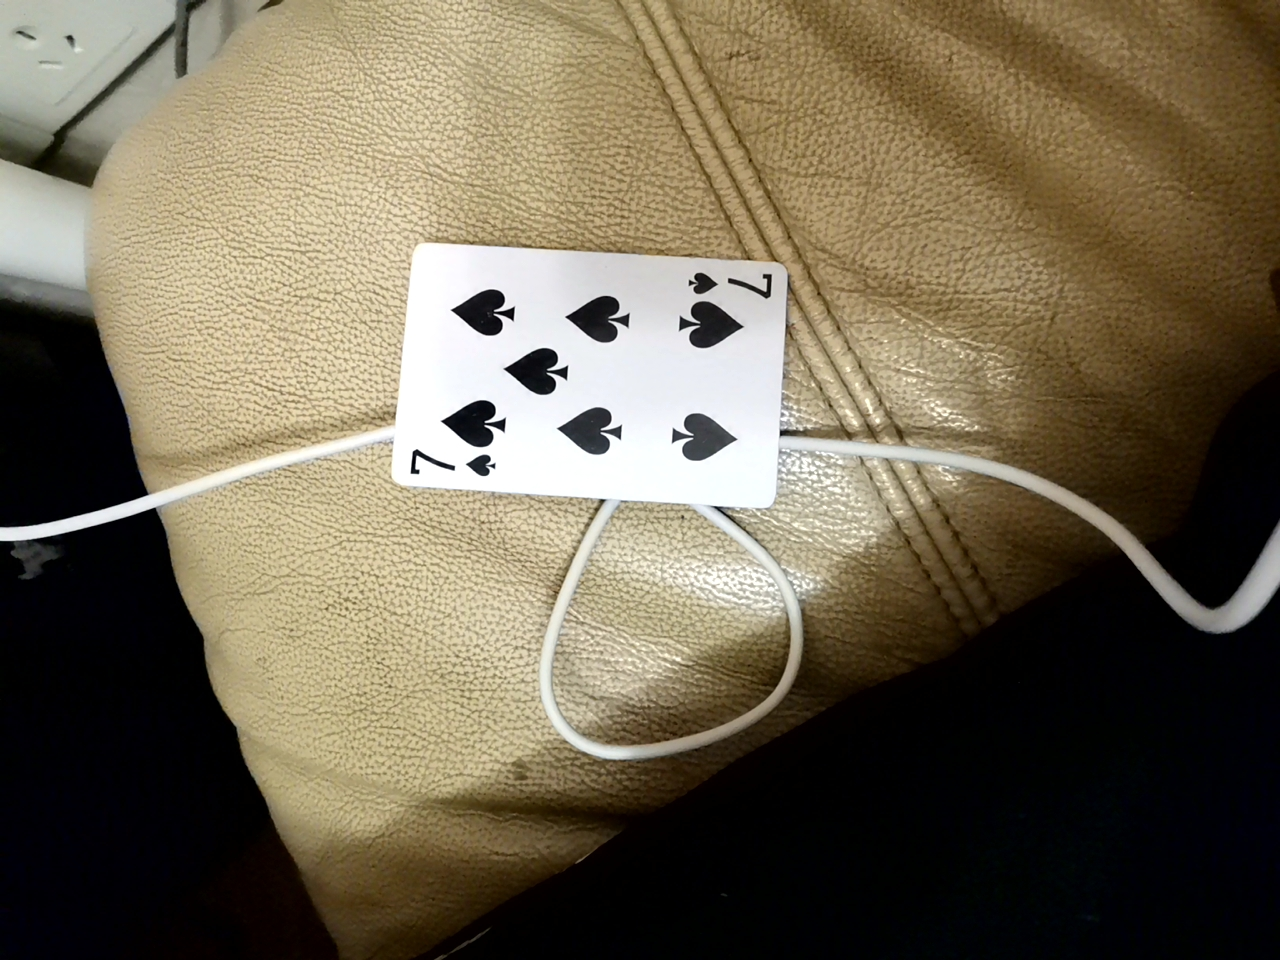ht 7: (374, 242, 797, 508)
